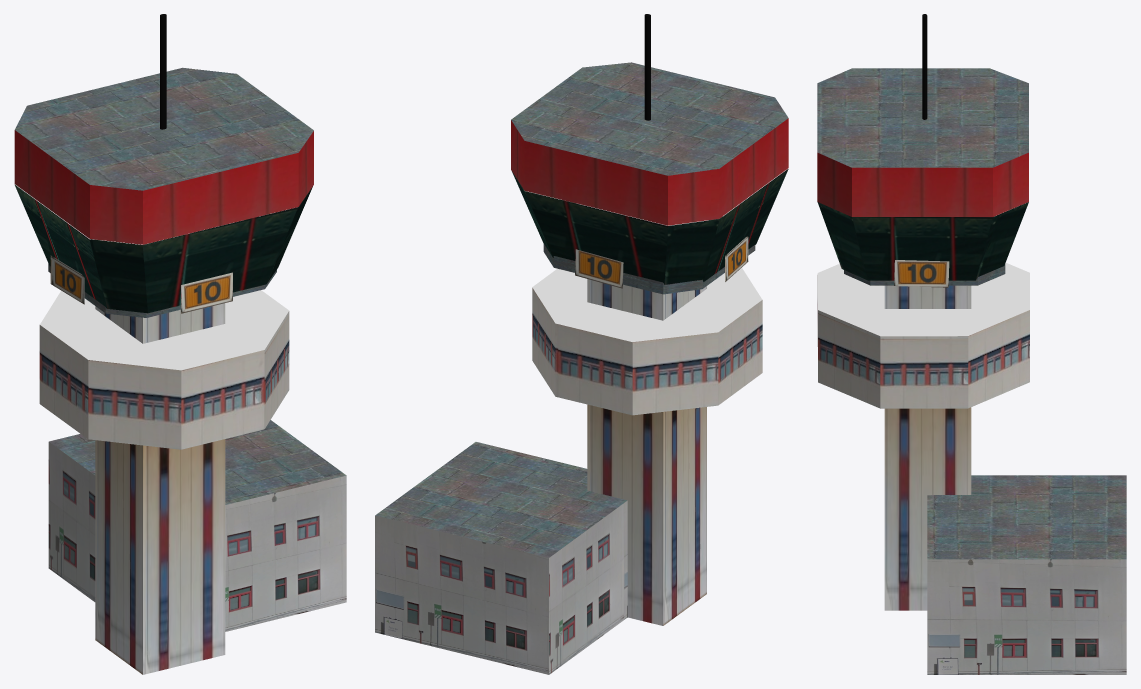
Rendered from LecuControlTower.gltf.
The picture shows the model from 3 angles, left to right: view 1: azimuth 30°, elevation 25°; view 2: azimuth 150°, elevation 25°; view 3: azimuth 270°, elevation 25°; orthographic projection. The views are drawn at different scales.
Visible parts, largest first — view 1: SketchUp.011, SketchUp.021, SketchUp, SketchUp.015, SketchUp.019, SketchUp.003, SketchUp.016, SketchUp.001, SketchUp.005, SketchUp.007, SketchUp.009, SketchUp.017; view 2: SketchUp, SketchUp.011, SketchUp.021, SketchUp.015, SketchUp.001, SketchUp.019, SketchUp.003, SketchUp.016, SketchUp.017, SketchUp.008, SketchUp.009, SketchUp.007; view 3: SketchUp, SketchUp.021, SketchUp.001, SketchUp.015, SketchUp.011, SketchUp.019, SketchUp.003, SketchUp.016, SketchUp.006, SketchUp.017, SketchUp.009.
Boxes of the visible parts, bbox=[...] form: SketchUp.011: bbox=[95, 303, 225, 674]; SketchUp.021: bbox=[15, 67, 313, 190]; SketchUp: bbox=[48, 442, 346, 631]; SketchUp.015: bbox=[39, 311, 289, 449]; SketchUp.019: bbox=[14, 130, 313, 244]; SketchUp.003: bbox=[14, 184, 312, 313]; SketchUp.016: bbox=[40, 290, 289, 370]; SketchUp.001: bbox=[49, 420, 346, 504]; SketchUp.005: bbox=[181, 272, 232, 313]; SketchUp.007: bbox=[50, 255, 84, 304]; SketchUp.009: bbox=[160, 14, 166, 129]; SketchUp.017: bbox=[48, 263, 276, 317]; SketchUp: bbox=[375, 500, 627, 674]; SketchUp.011: bbox=[587, 279, 706, 625]; SketchUp.021: bbox=[511, 62, 788, 175]; SketchUp.015: bbox=[532, 288, 762, 415]; SketchUp.001: bbox=[375, 442, 627, 557]; SketchUp.019: bbox=[511, 118, 788, 225]; SketchUp.003: bbox=[512, 169, 788, 284]; SketchUp.016: bbox=[532, 268, 762, 341]; SketchUp.017: bbox=[543, 244, 755, 294]; SketchUp.008: bbox=[575, 249, 623, 288]; SketchUp.009: bbox=[644, 14, 650, 120]; SketchUp.007: bbox=[725, 236, 748, 281]; SketchUp: bbox=[927, 559, 1126, 674]; SketchUp.021: bbox=[817, 68, 1028, 167]; SketchUp.001: bbox=[927, 475, 1126, 559]; SketchUp.015: bbox=[817, 275, 1029, 408]; SketchUp.011: bbox=[884, 285, 971, 610]; SketchUp.019: bbox=[817, 152, 1028, 216]; SketchUp.003: bbox=[817, 202, 1028, 280]; SketchUp.016: bbox=[817, 263, 1029, 336]; SketchUp.006: bbox=[894, 260, 949, 287]; SketchUp.017: bbox=[844, 264, 1005, 285]; SketchUp.009: bbox=[922, 14, 927, 119].
Size of the model in its own units: 32.67 by 66.28 by 32.19.
Materials: 25 (23 with a texture image).
